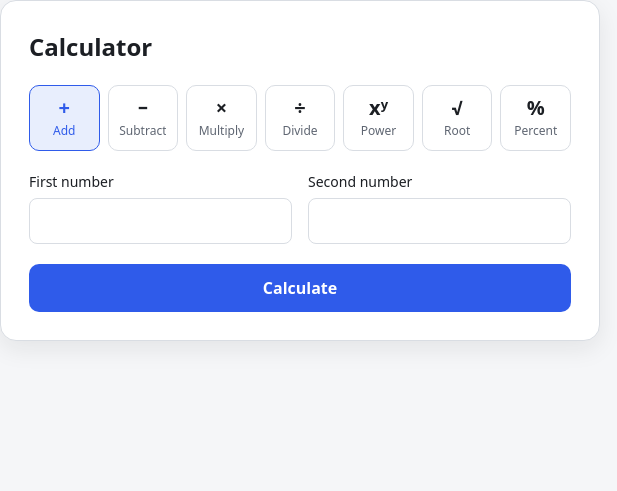
it: Calculator › sends a single number for the square root
Click the button "√ Root".
click(457, 118)  # box [422,85,492,151]
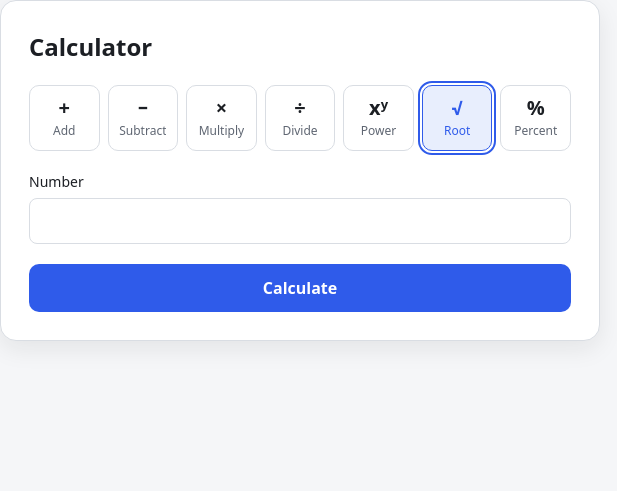
Type "16" into the number field labelled "Number".
click(300, 221); type("16")  # box [29,198,571,244]
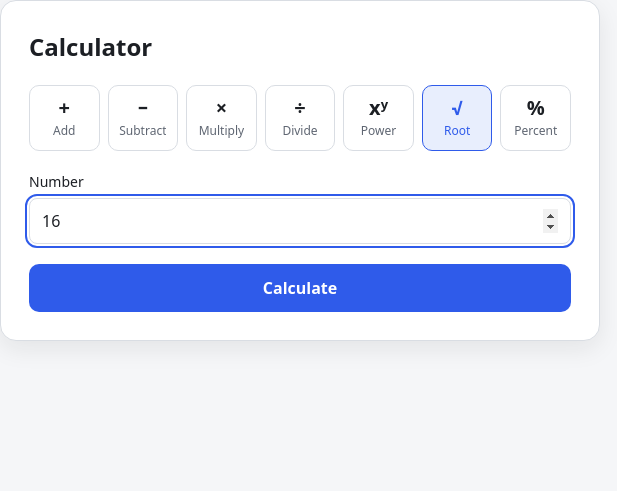
Click the button "Calculate".
click(300, 288)  # box [29,264,571,312]
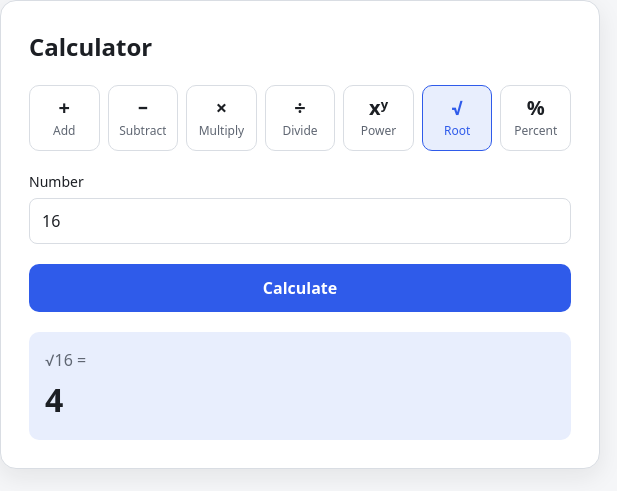
Expected: the text "√16 =" is shown, [45,349,86,371]
